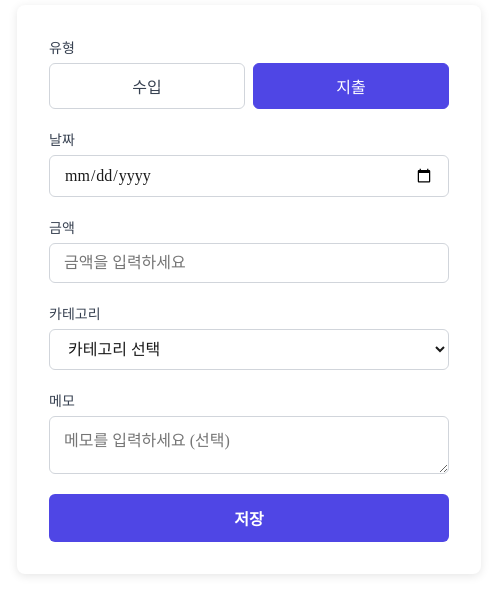
TransactionForm › 저장 후 입력 필드를 초기화한다
In the date field labelled "날짜": (249, 176) top-left (49, 155), bottom-right (449, 197), type "2026-06-05"
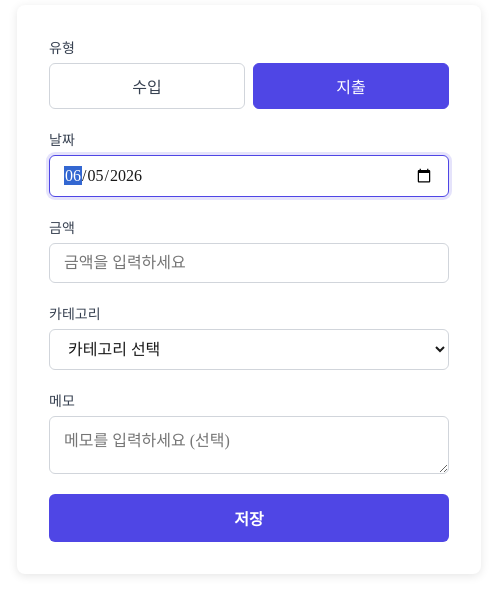
In the number field labelled "금액": (249, 263) top-left (49, 243), bottom-right (449, 283), type "15000"
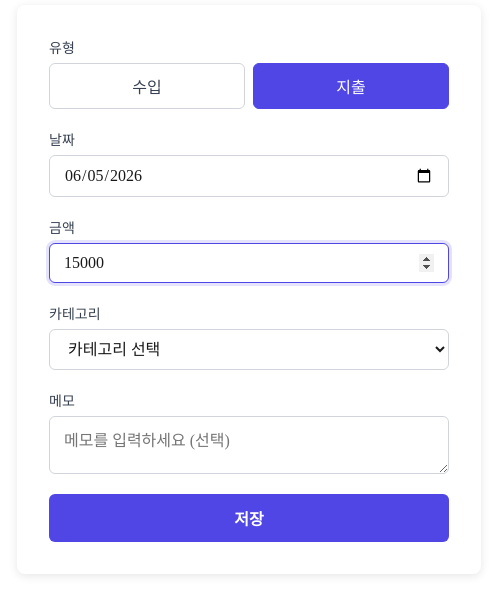
Select "식비" in the dropdown labelled "카테고리": (249, 350) top-left (49, 329), bottom-right (449, 370)
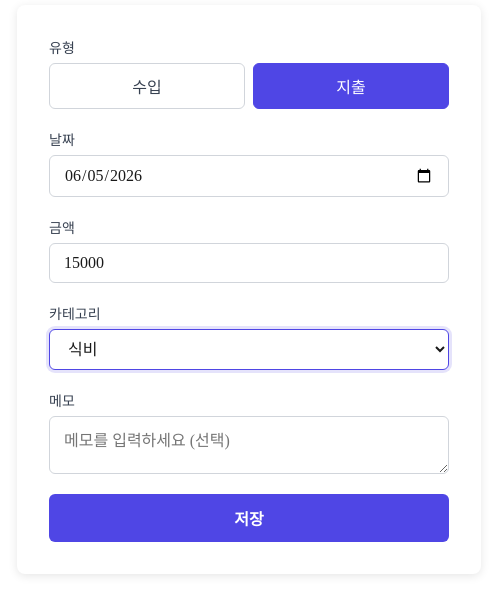
Click the button "저장": (249, 518) top-left (49, 494), bottom-right (449, 542)
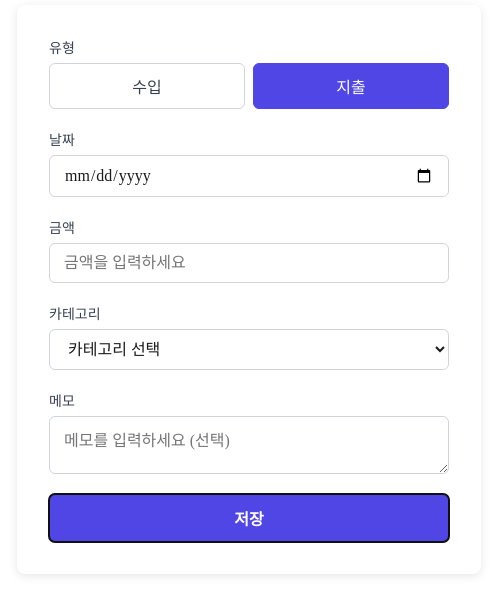
Result: the number field labelled "금액" is not empty at top-left (49, 243), bottom-right (449, 283)
